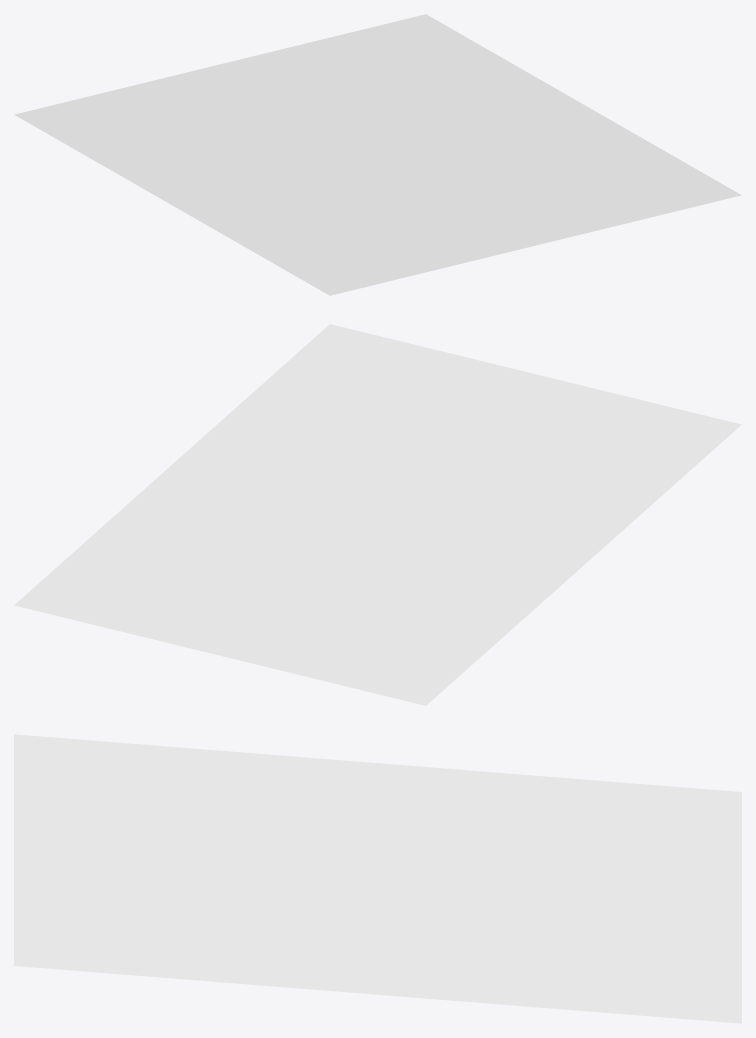
File: CoinLandingAnim.fbx
3 renders of one model, top to bottom at view 1: azimuth 30°, elevation 25°; view 2: azimuth 150°, elevation 25°; view 3: azimuth 270°, elevation 25°, orthographic. The views are drawn at different scales.
Visible parts, largest first — view 1: Ring; view 2: Ring; view 3: Ring.
Boxes of the visible parts, left/top/right/bottom form: Ring: left=14, top=14, right=741, bottom=295; Ring: left=14, top=324, right=741, bottom=705; Ring: left=14, top=734, right=741, bottom=1023.
Bounding box in the file's own units: 4.81 × 0.5591 × 6.39.
1 material, 1 textured.
